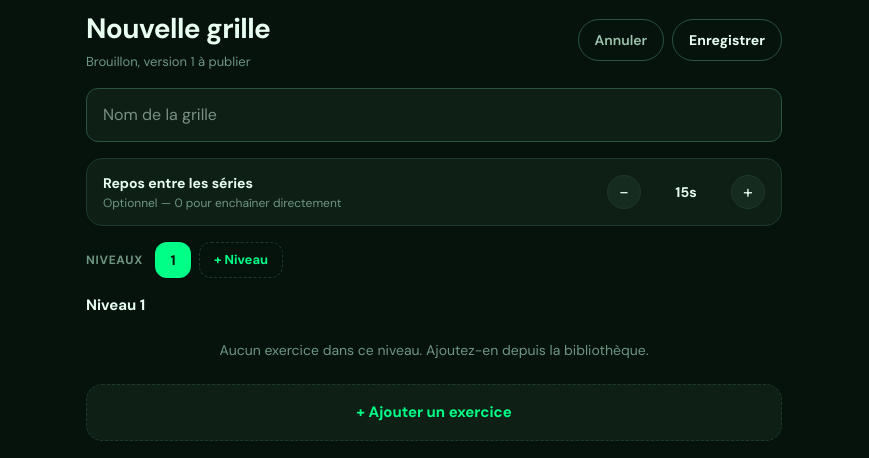
bibliotheque › groupe le catalogue et annonce le niveau vise
The image size is (869, 458).
Click the button "+ Ajouter un exercice". click: click(434, 412)
box: top-left (86, 384), bottom-right (782, 440)
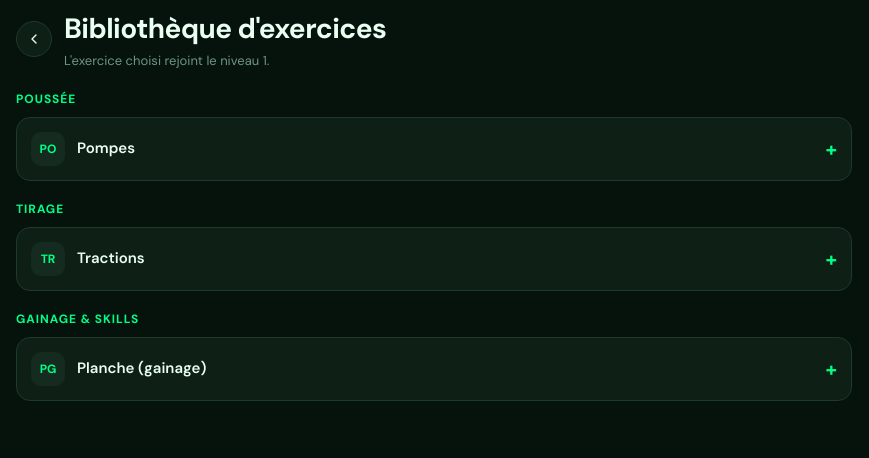
Now the heading "Poussée" is shown, box top-left (16, 90), bottom-right (76, 106)
Now the heading "Tirage" is shown, box top-left (16, 200), bottom-right (64, 216)
Now the text "L'exercice choisi rejoint le niveau 1." is shown, box top-left (64, 52), bottom-right (269, 69)
